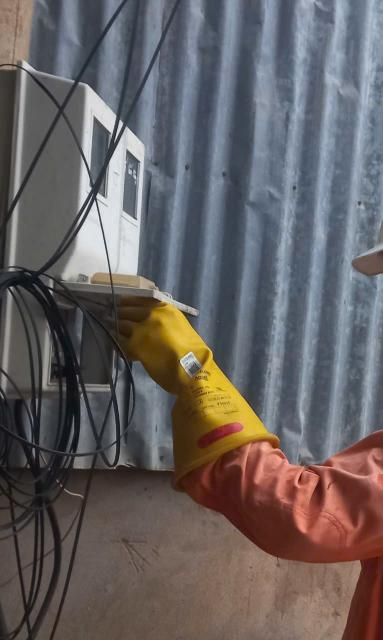gloves: (93, 257, 273, 481)
